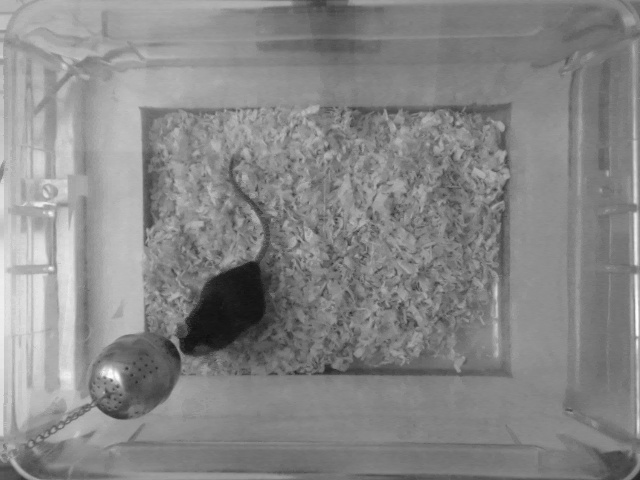mice: (182, 150, 264, 357)
